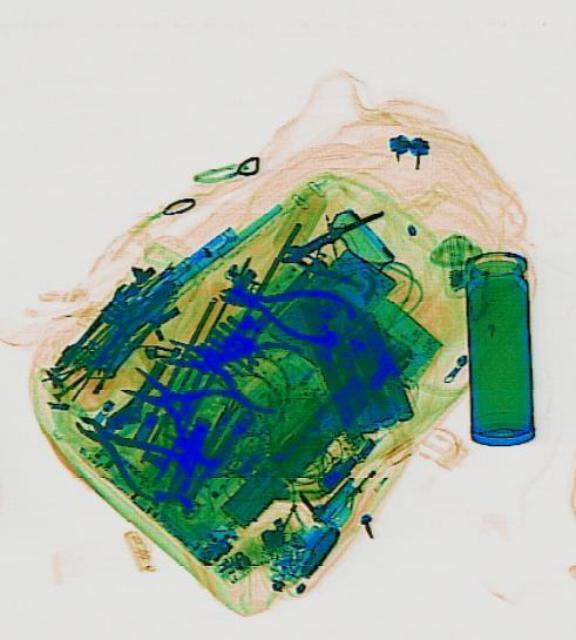Pliers: (110, 342, 263, 472), (152, 312, 304, 414), (58, 394, 189, 508), (212, 260, 356, 350)
